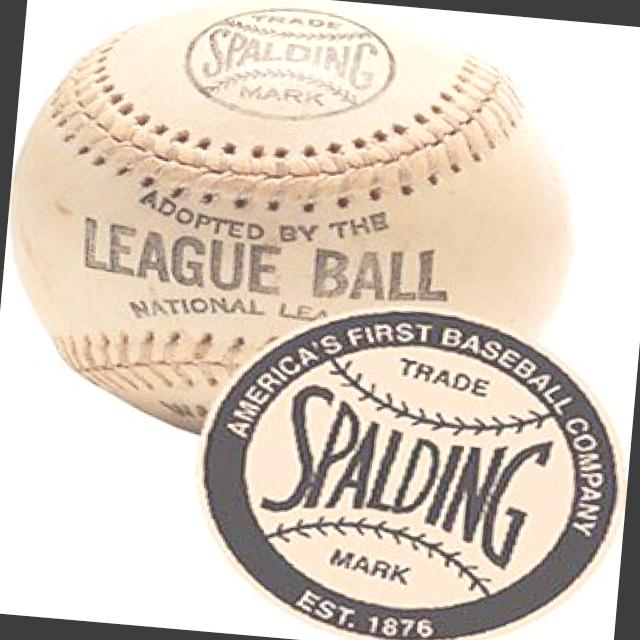ball: (7, 0, 640, 382)
